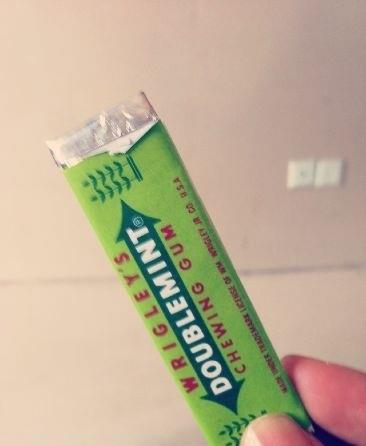Doublemint: (103, 196, 262, 420)
